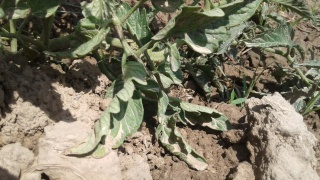tomato plant: (1, 1, 313, 53), (116, 55, 218, 169)
